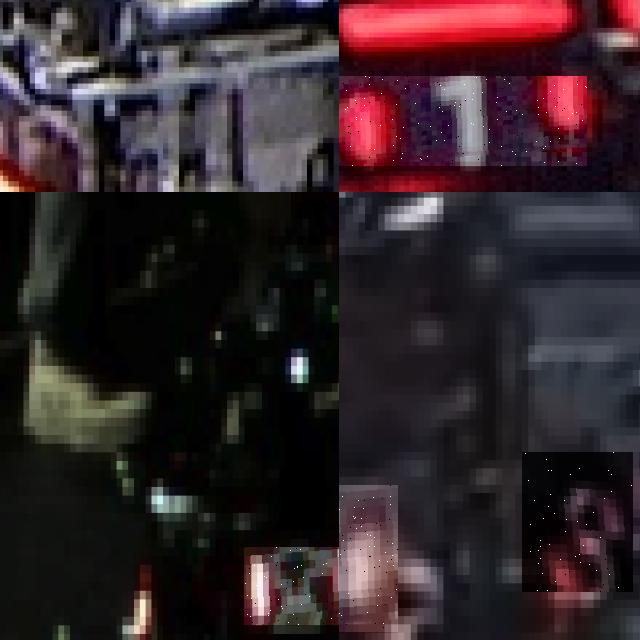R1: (339, 75, 587, 166)
R5: (522, 452, 633, 592), (339, 484, 397, 632)
Rs: (244, 547, 339, 625)
